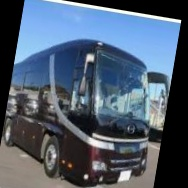bus: (0, 24, 166, 188)
